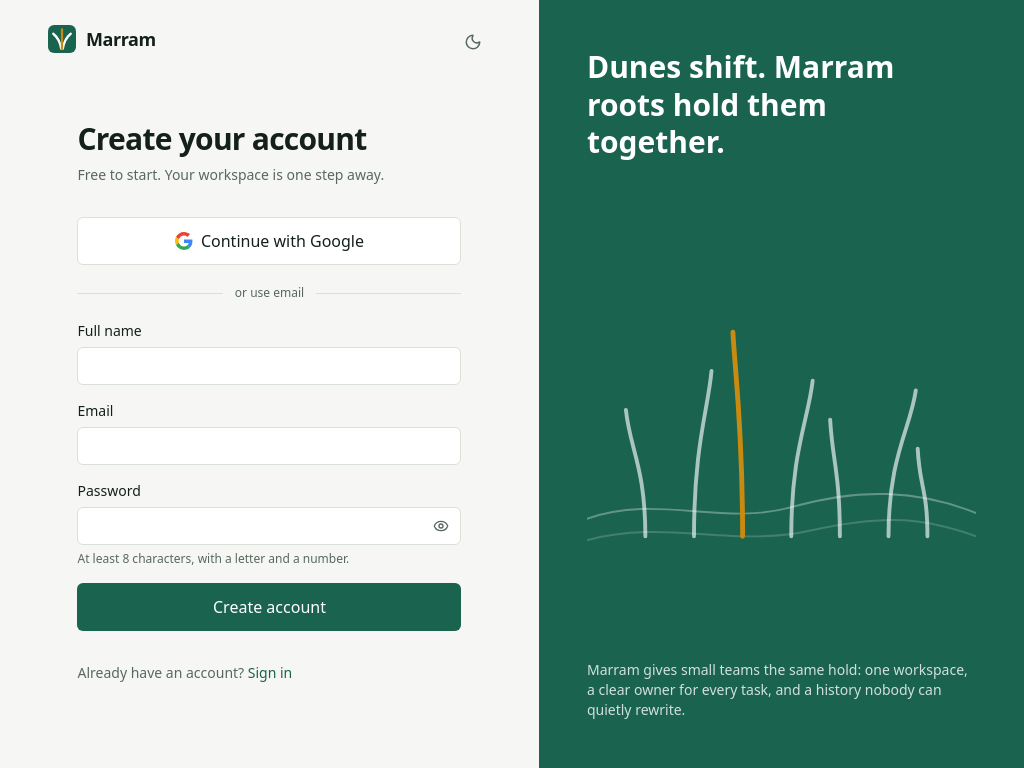
it: Register form › enforces the password policy client-side
Type "Alex Johnson" into the field labelled "Full name" at (270, 366), box x1=78 y1=347 x2=462 y2=385
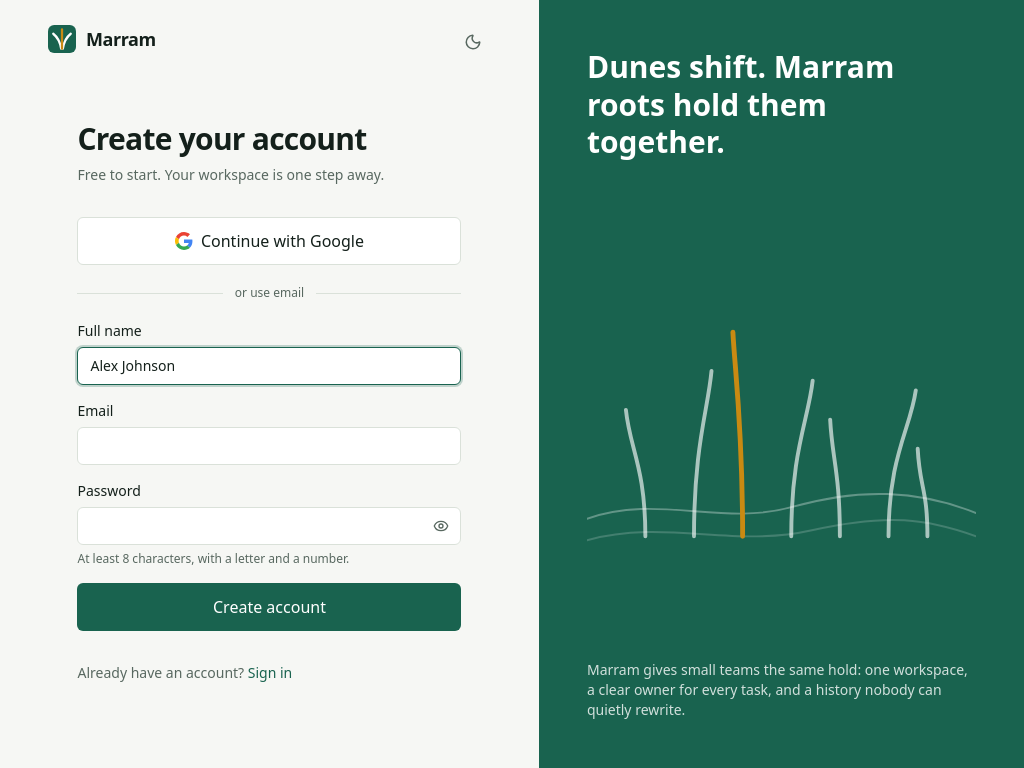
Type "alex@example.com" into the field labelled "Email" at (270, 446), box x1=78 y1=427 x2=462 y2=465
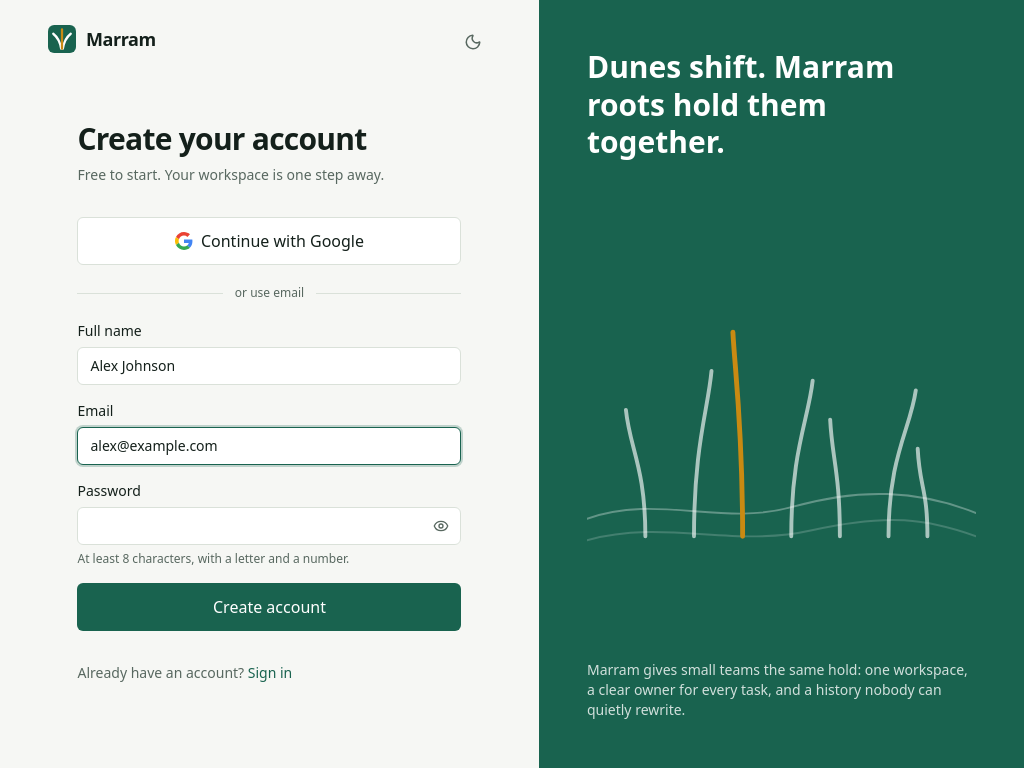
Type "short" into the password field labelled "Password" at (270, 526), box x1=78 y1=507 x2=462 y2=545
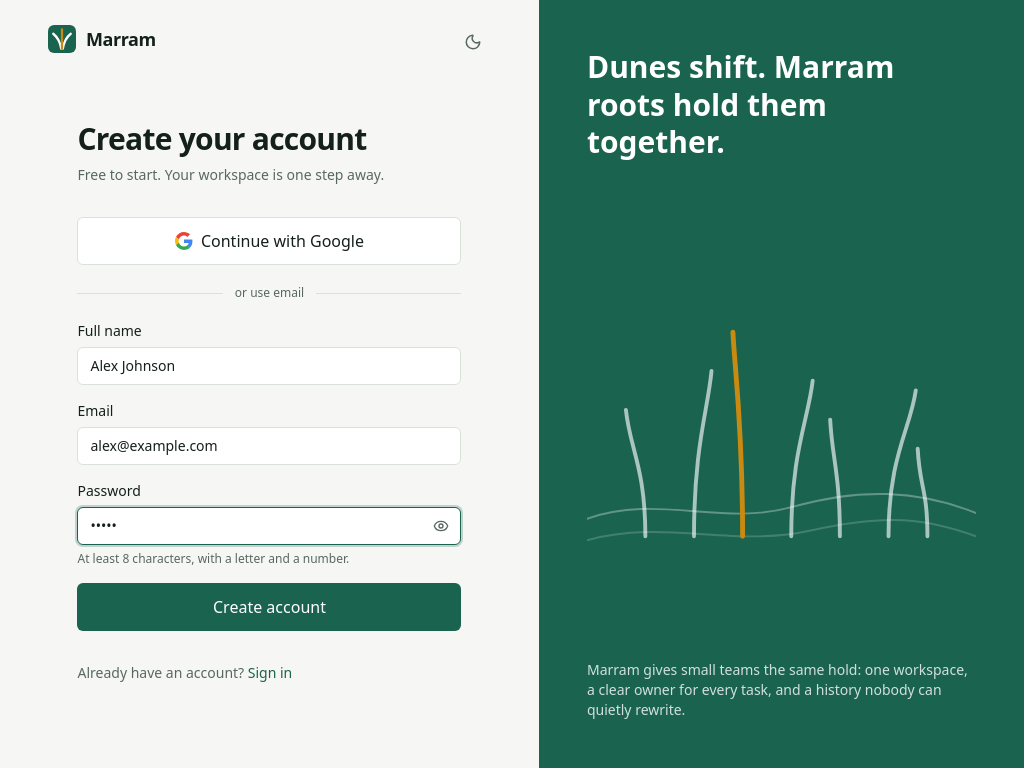
Click the button "Create account" at (270, 607), box x1=78 y1=583 x2=462 y2=631
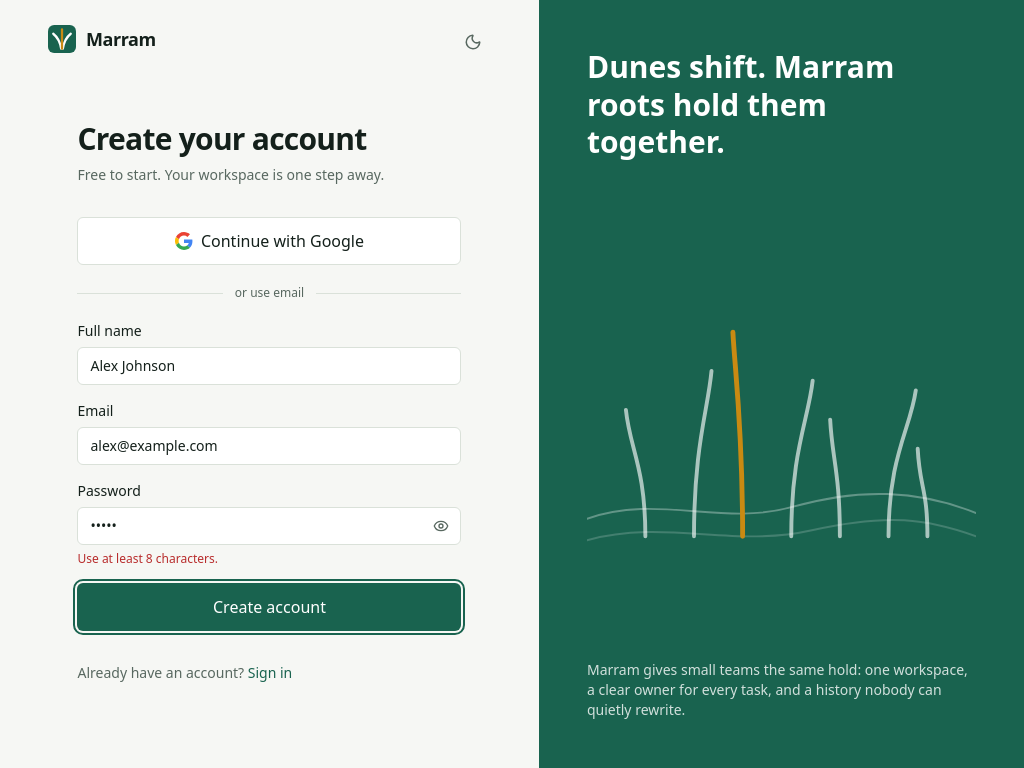
Expected: the text "Use at least 8 characters." is shown, x1=78 y1=550 x2=218 y2=567
